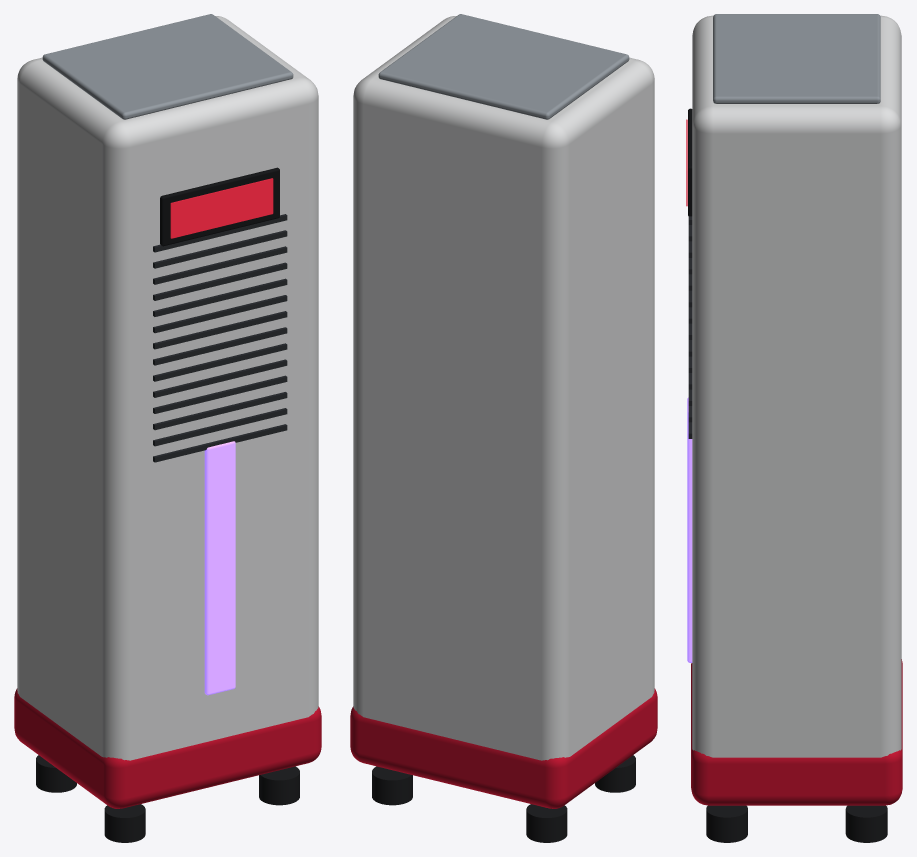
Rendered from nuv-c.glb.
The picture shows the model from 3 angles, left to right: view 1: azimuth 30°, elevation 25°; view 2: azimuth 150°, elevation 25°; view 3: azimuth 270°, elevation 25°; orthographic projection.
Size of the model in its own units: 0.3636 by 1.17 by 0.31.
